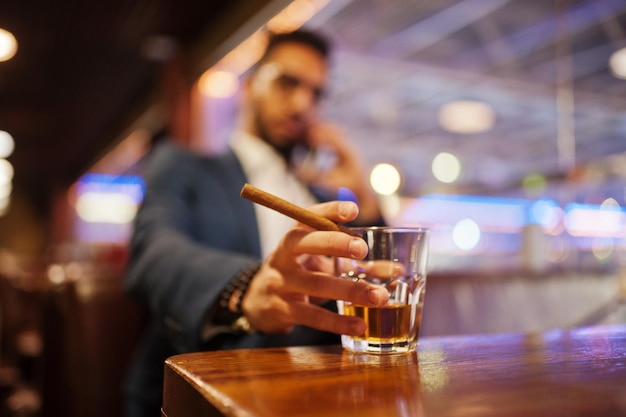alcohol: (331, 222, 432, 356)
cigarette: (240, 181, 367, 254)
